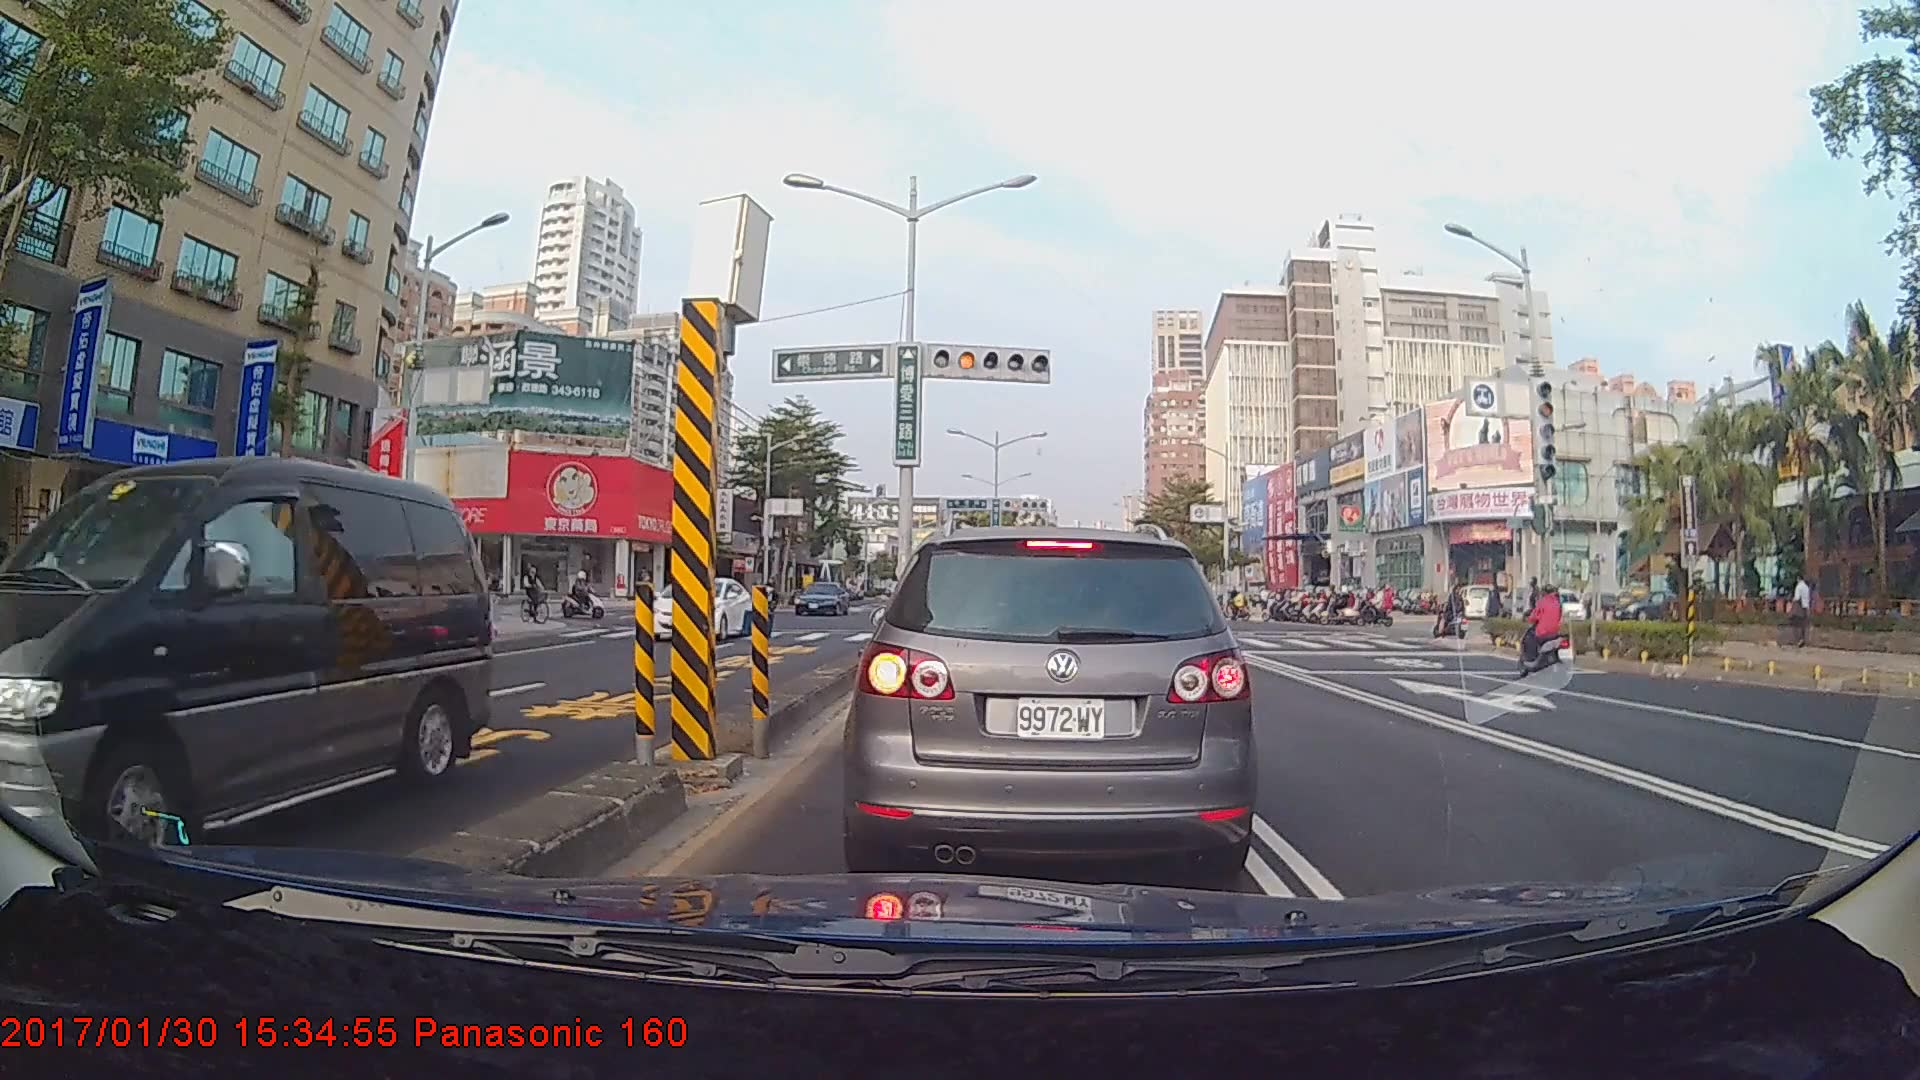pedestrian: (1786, 576, 1813, 648), (1484, 579, 1509, 637), (448, 558, 468, 621)
rider: (1517, 584, 1579, 676), (1436, 582, 1473, 646)
vehicle: (0, 454, 487, 870), (852, 521, 1253, 875), (644, 576, 753, 643), (792, 579, 847, 617)
